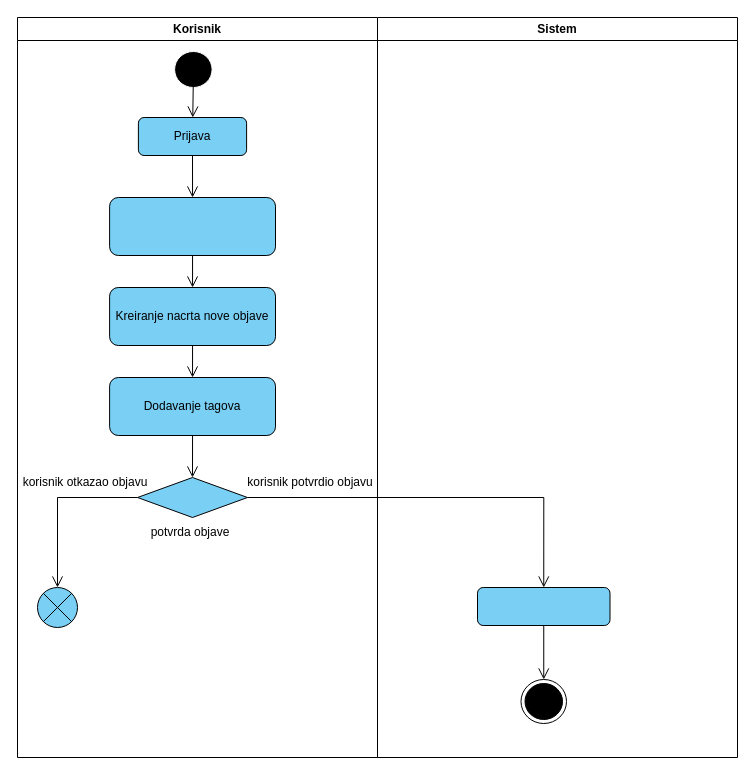
This 755x775 diagram has some shape labels left out. Each missing label, with the centre of its shape:
Ažuriranje podataka u sistemu: the point at 543,606
Odabir opcije za kreiranje nove objave: the point at 192,226
